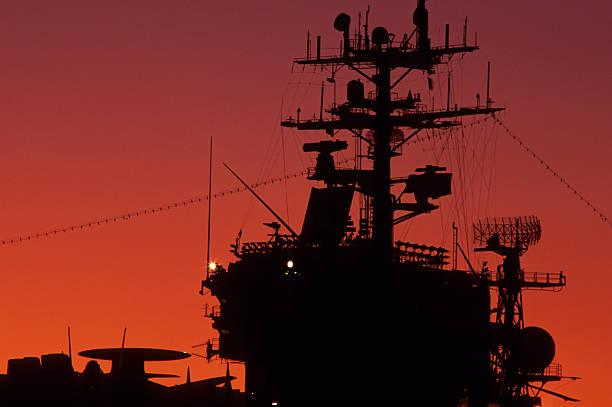MIL_Ship: (203, 7, 562, 407)
